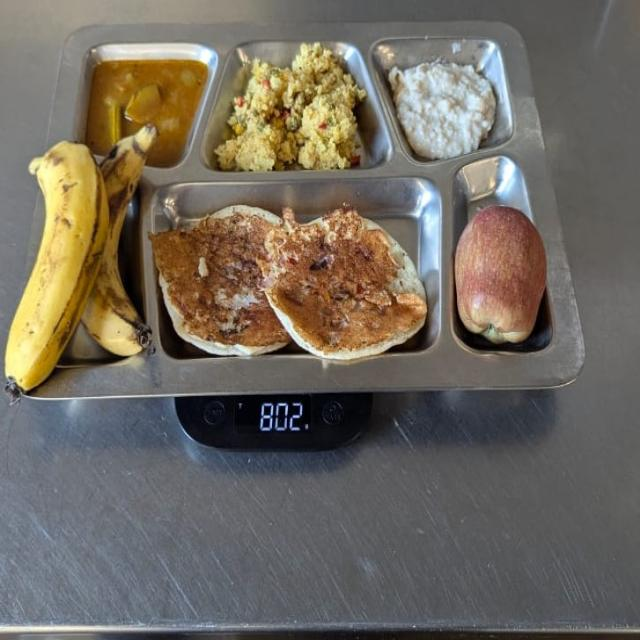Apple: (457, 208, 547, 340)
Banana: (11, 126, 154, 400)
Porridge: (388, 52, 509, 159)
Sambhar: (87, 56, 201, 165)
Upma: (224, 48, 372, 173)
Uttapam: (162, 204, 430, 365)
